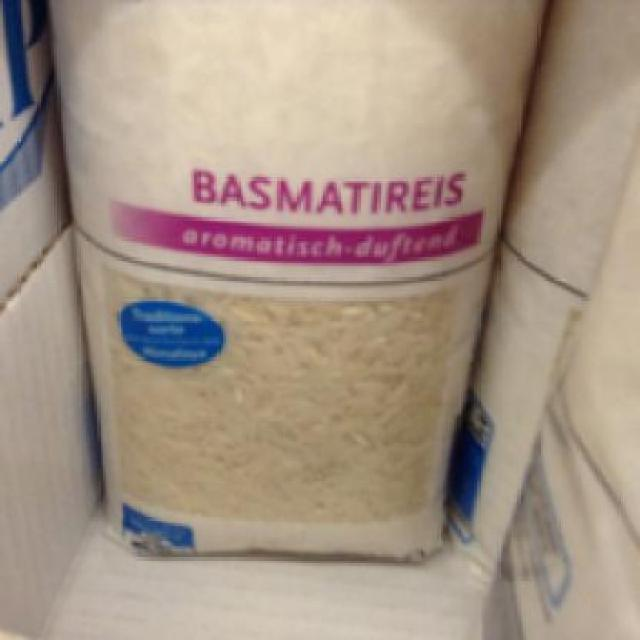Rice: (43, 0, 546, 563)
